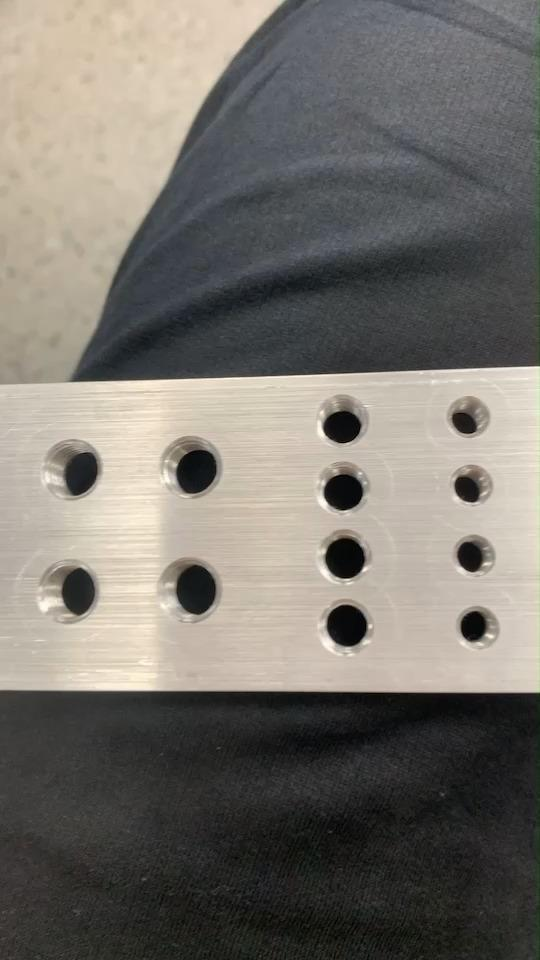hole: (158, 554, 224, 624), (157, 434, 223, 500), (34, 557, 98, 624), (310, 596, 376, 659), (40, 437, 102, 500), (313, 461, 370, 513), (316, 530, 371, 583), (316, 394, 371, 446), (454, 602, 502, 654), (447, 462, 494, 509), (446, 396, 494, 442), (451, 532, 494, 578)
